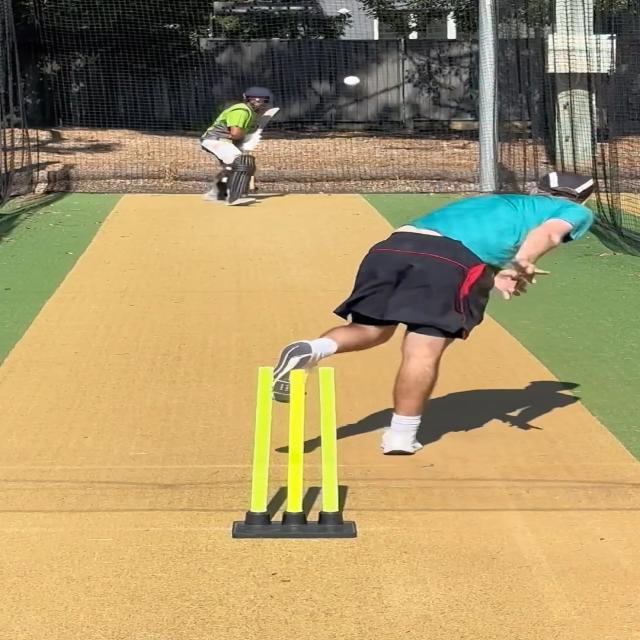ball: (344, 74, 361, 88)
stump: (231, 366, 358, 540)
